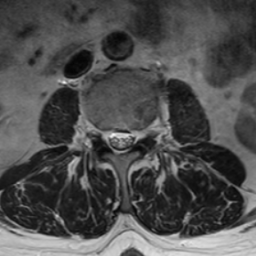CCS_normal: (116, 121, 124, 157)
LFS_normal: (135, 123, 145, 145)
LLS_normal: (124, 124, 134, 154)
RFS_normal: (94, 121, 107, 146)
RLS_normal: (105, 123, 116, 155)
